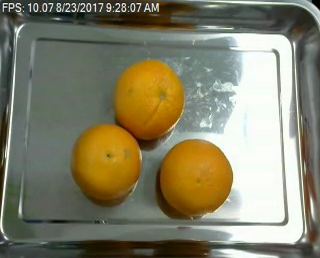Orange: (111, 59, 184, 140), (158, 138, 233, 215), (71, 122, 142, 201)
